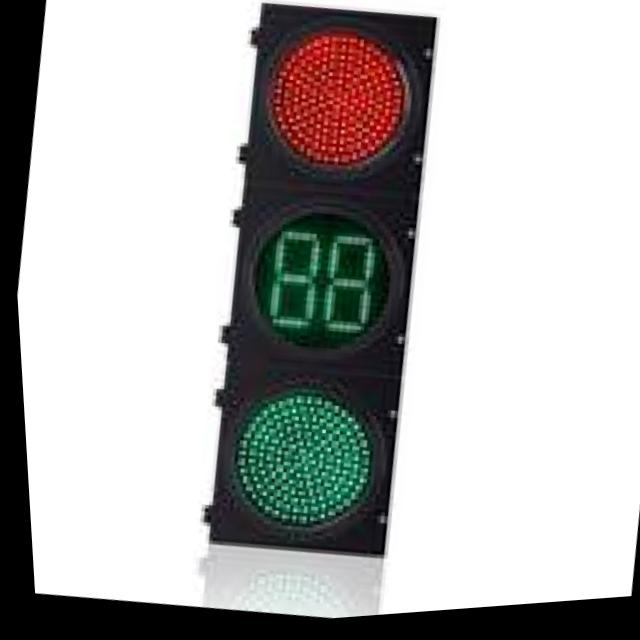green_light: (168, 362, 397, 562)
red_light: (203, 14, 442, 195)
